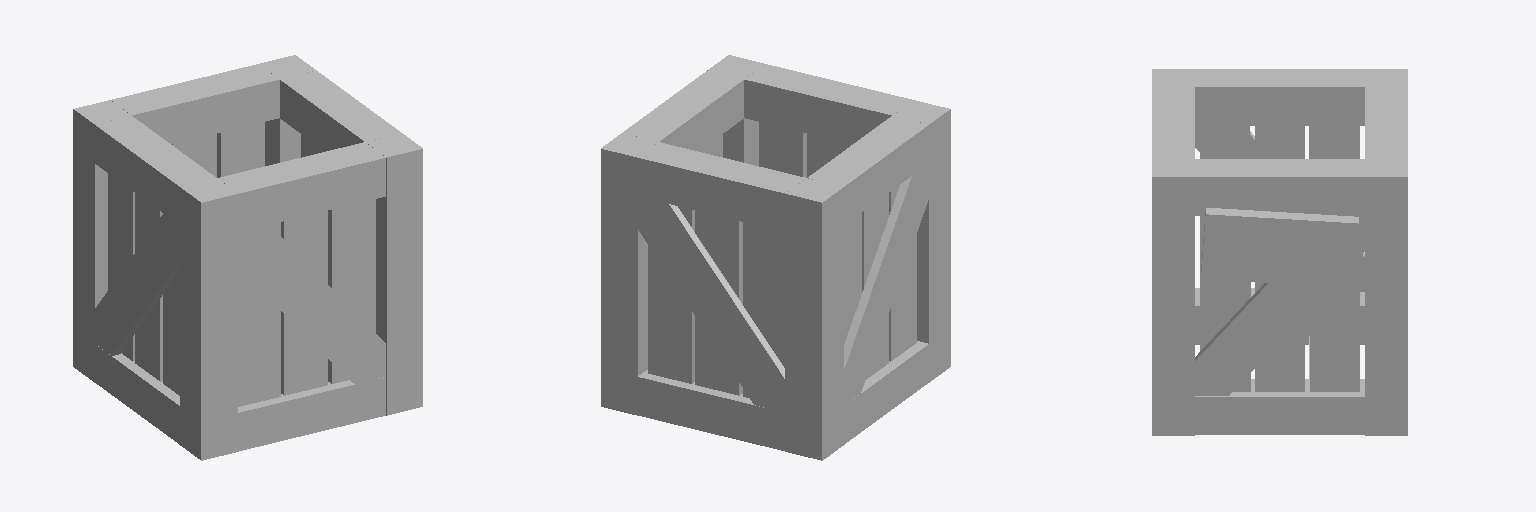
File: trash_crate.obj
3 renders of one model, left to right at view 1: azimuth 30°, elevation 25°; view 2: azimuth 150°, elevation 25°; view 3: azimuth 270°, elevation 25°, orthographic.
Visible parts, largest first — view 1: trash_crate_Cube.006; view 2: trash_crate_Cube.006; view 3: trash_crate_Cube.006.
Boxes of the visible parts, <box> form: trash_crate_Cube.006: <box>73,55,422,460</box>; trash_crate_Cube.006: <box>601,55,950,460</box>; trash_crate_Cube.006: <box>1152,69,1407,435</box>.
Size of the model in its own units: 3.85 by 4 by 3.6.